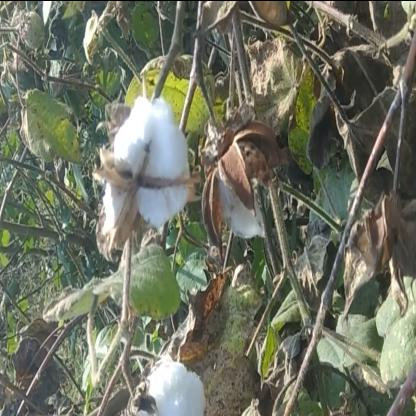cotton_ready: (82, 110, 190, 266)
